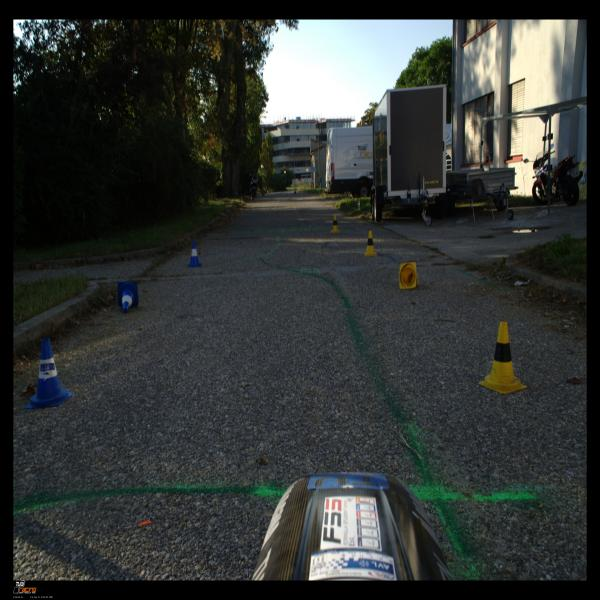blue_cone: (25, 338, 73, 409), (118, 282, 138, 313), (188, 241, 201, 267)
yellow_cone: (478, 322, 526, 393), (399, 262, 419, 289), (364, 230, 377, 258), (330, 215, 340, 233)
